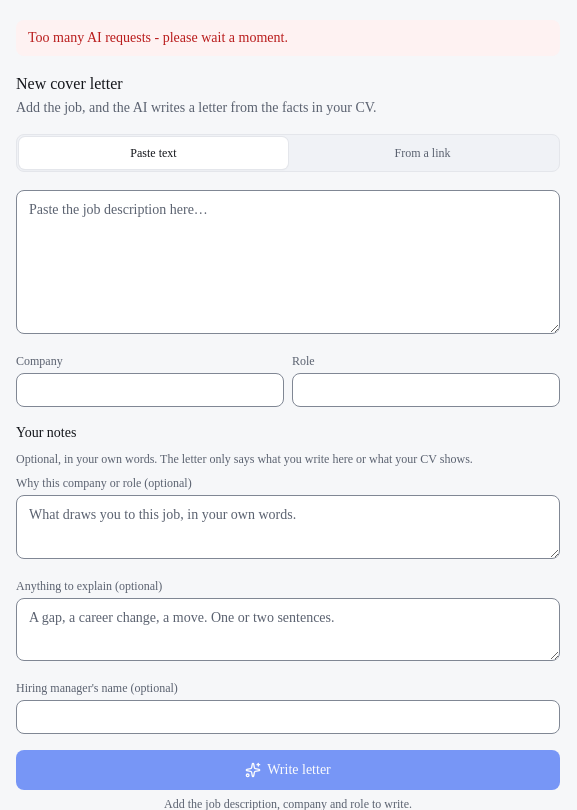
Test: CoverLetterPanel: new letter › shows a failed create next to Write letter as well, announced once
Check: the text "Too many AI requests - please wait a moment." is shown once, box [16,20,560,56]
In the text box labelled "job description": x=288, y=262 [16,190,560,334], type "We are hiring a Platform Engineer."
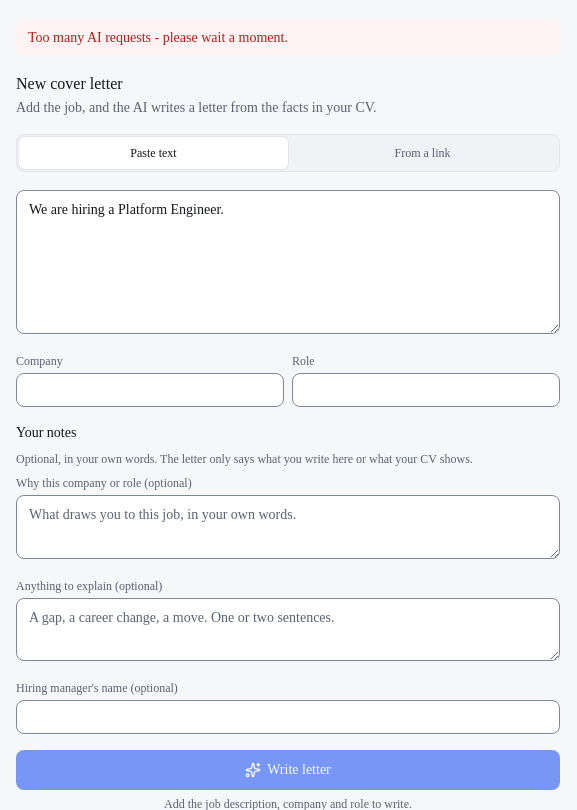
In the field labelled "Company": x=150, y=390 [16,373,284,407], type "Globex"
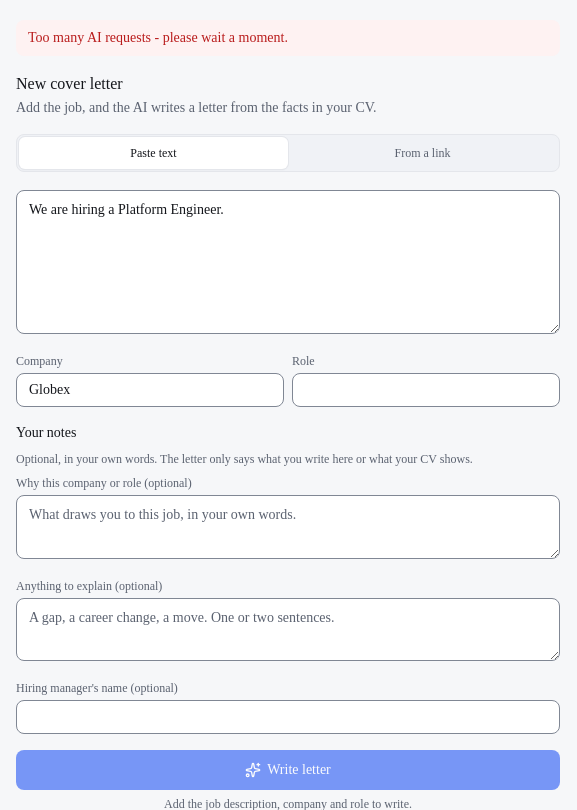
In the field labelled "Role": x=426, y=390 [292,373,560,407], type "Platform Engineer"
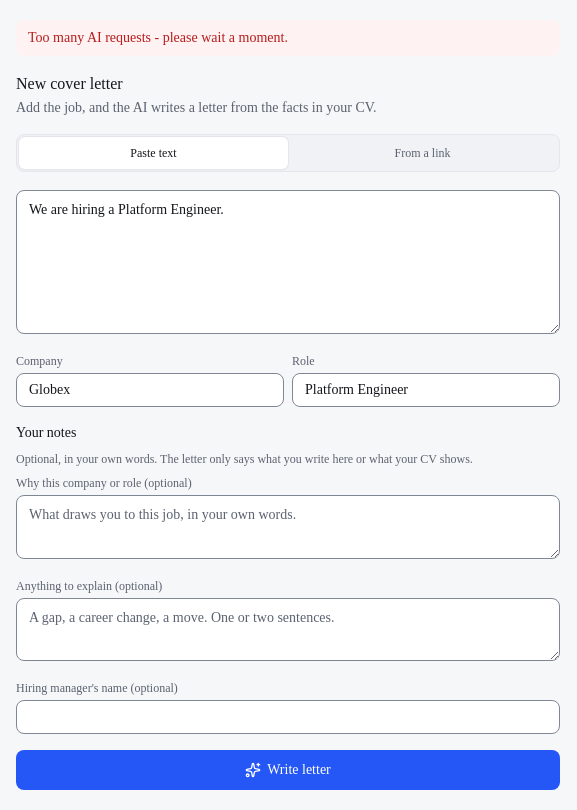
Click the button "Write letter": x=288, y=770 [16,750,560,790]
(page scrolled)
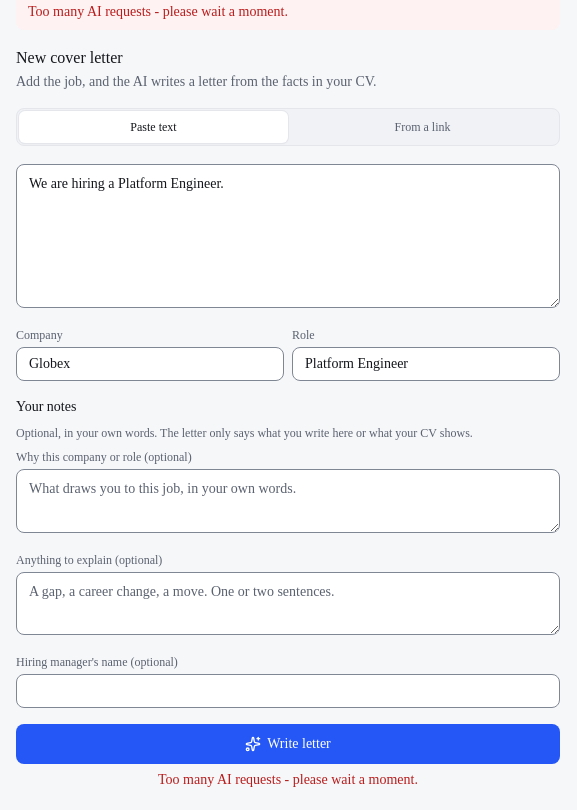
Check: the text "Too many AI requests - please wait a moment." is shown, box [158,772,418,787]
